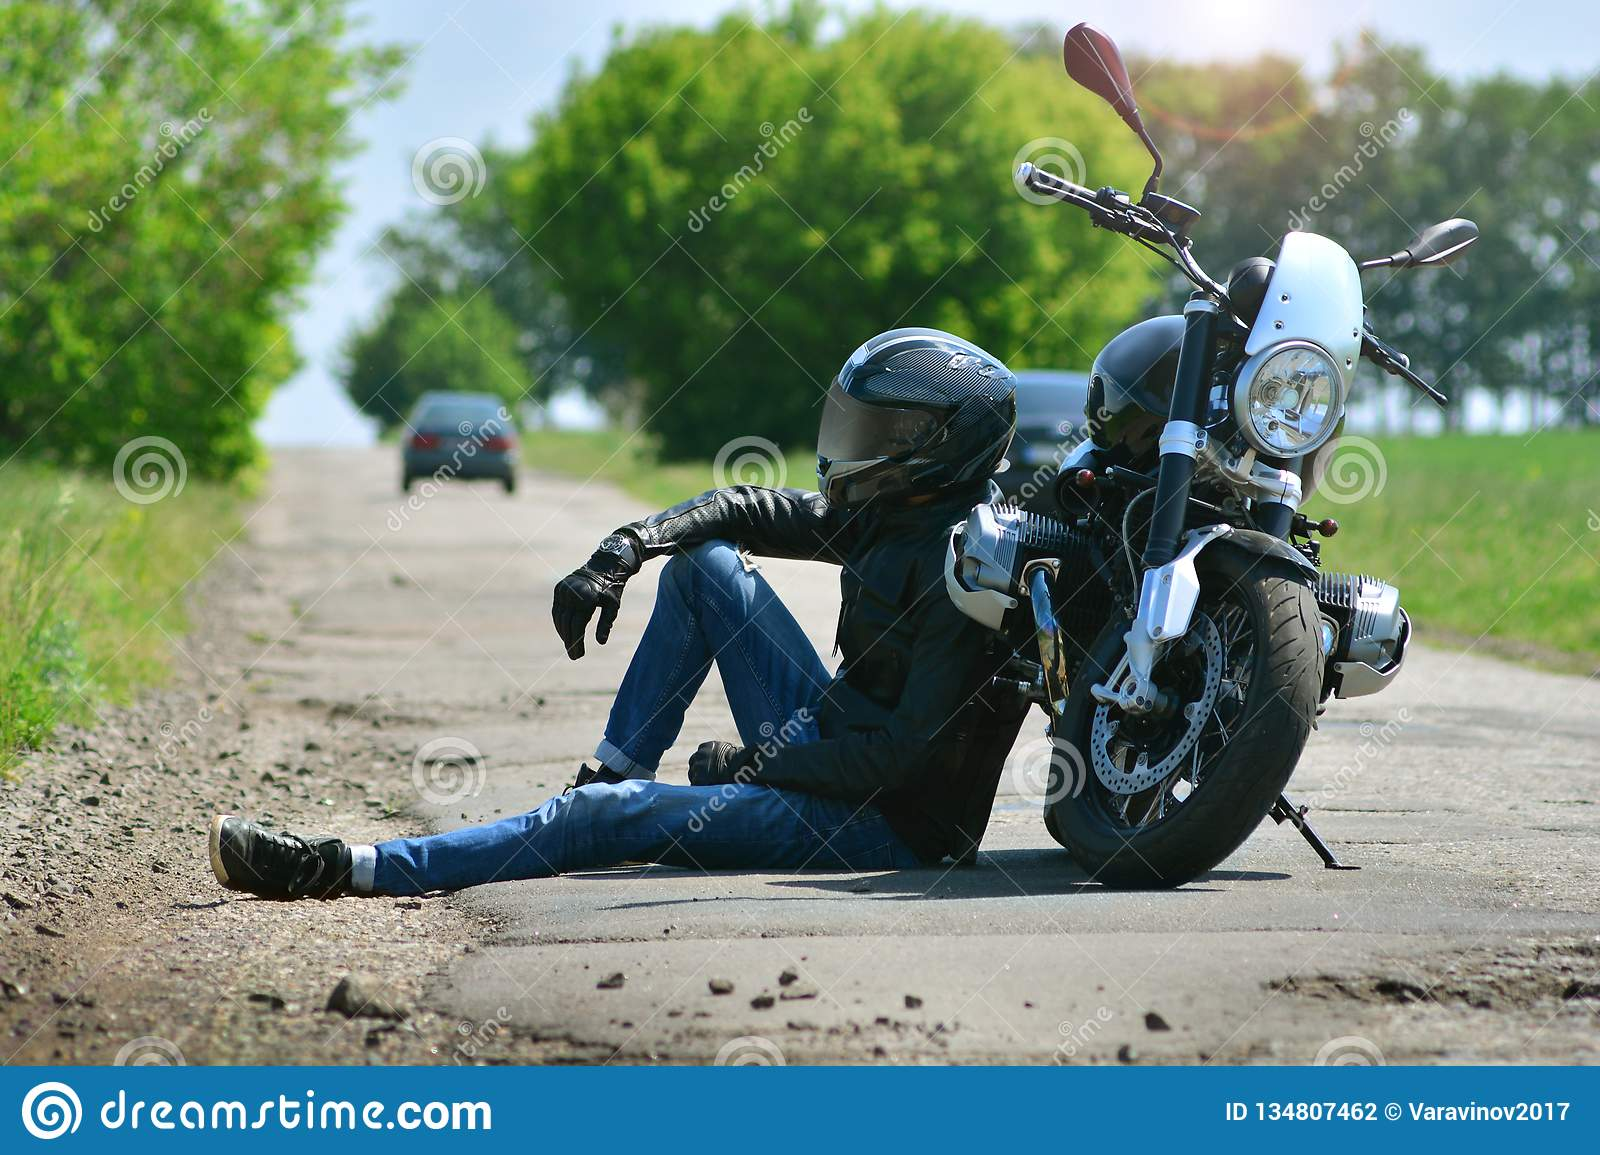helmet: (817, 324, 1021, 520)
